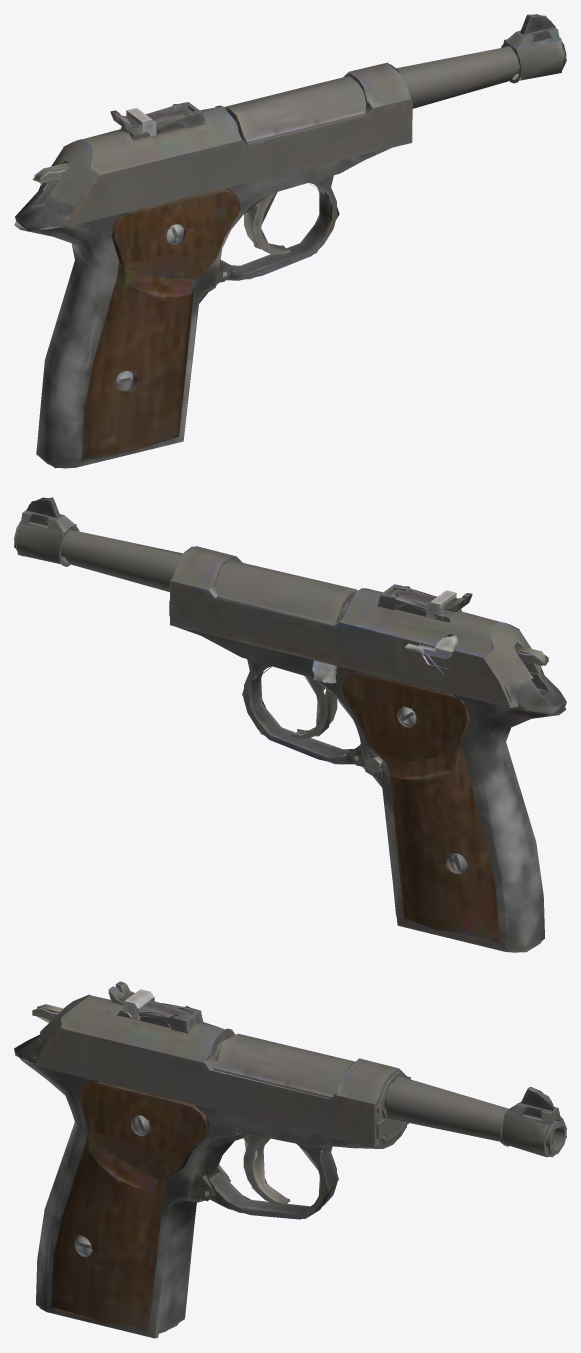
The model's file is pistol.glb.
3 renders of one model, top to bottom at view 1: azimuth 30°, elevation 25°; view 2: azimuth 150°, elevation 25°; view 3: azimuth 330°, elevation 25°, orthographic.
Visible parts, largest first — view 1: pistol; view 2: pistol; view 3: pistol.
Boxes of the visible parts, x1,y1,x2,y2 form: pistol: (14, 14, 566, 468); pistol: (14, 497, 566, 952); pistol: (14, 981, 566, 1338).
Size of the model in its own units: 0.222 by 0.1295 by 0.0322.
Materials: 1 (1 with a texture image).
